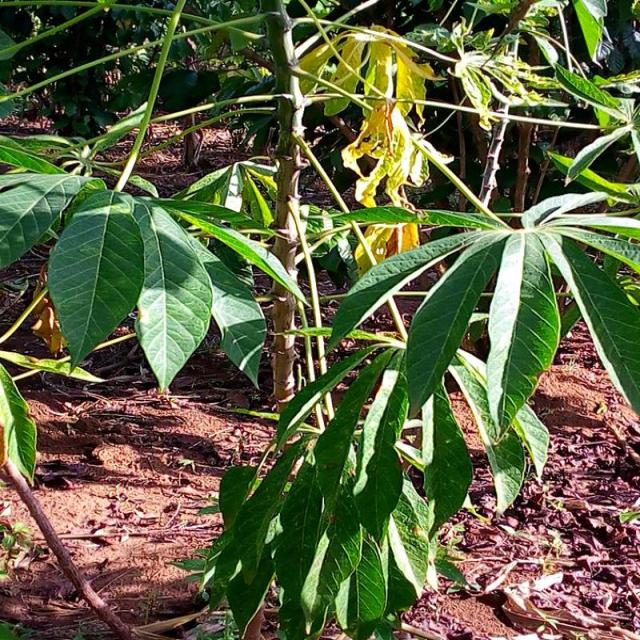cassava leaf: (47, 188, 146, 370), (487, 228, 562, 443), (132, 198, 215, 392)
